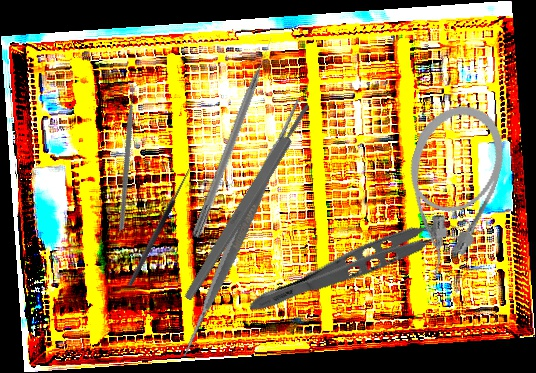Cannula: (379, 93, 518, 285)
Chopper: (64, 81, 200, 231)
Hook Surgical: (121, 161, 194, 288)
Pusher: (190, 36, 279, 240)
Scalpel Handle: (181, 101, 315, 303)
Spatula Surgical: (105, 93, 377, 362)
Tissue Forceps: (244, 206, 466, 332)
